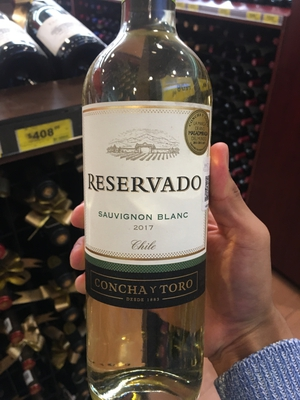reservado sauvignon blanc: (73, 17, 217, 400)
